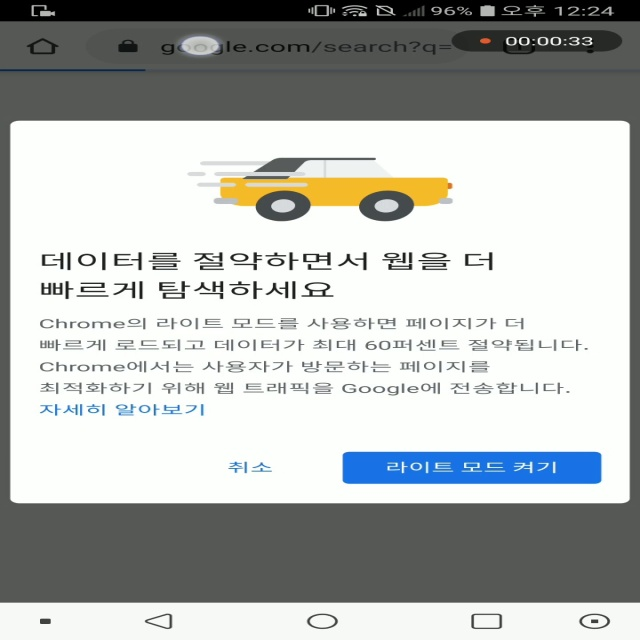Cursor: (177, 35, 222, 58)
